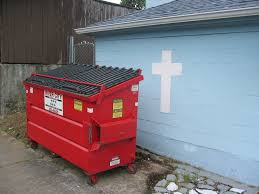Dumpster: (20, 61, 145, 190)
